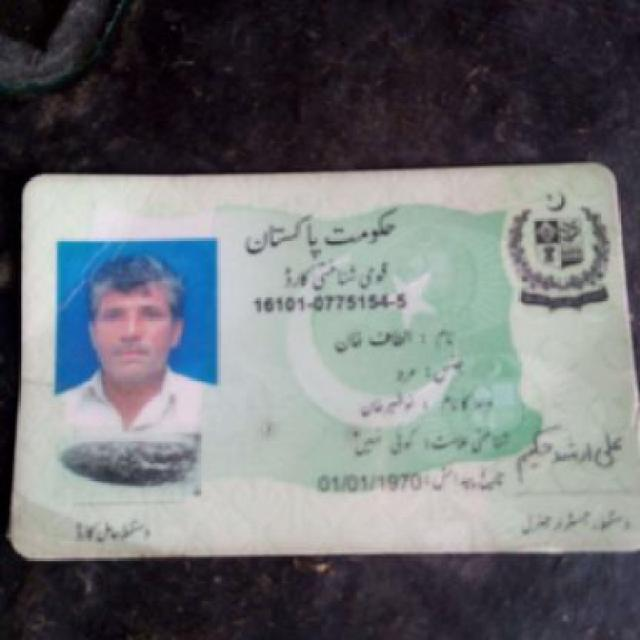Front: (6, 163, 640, 560)
